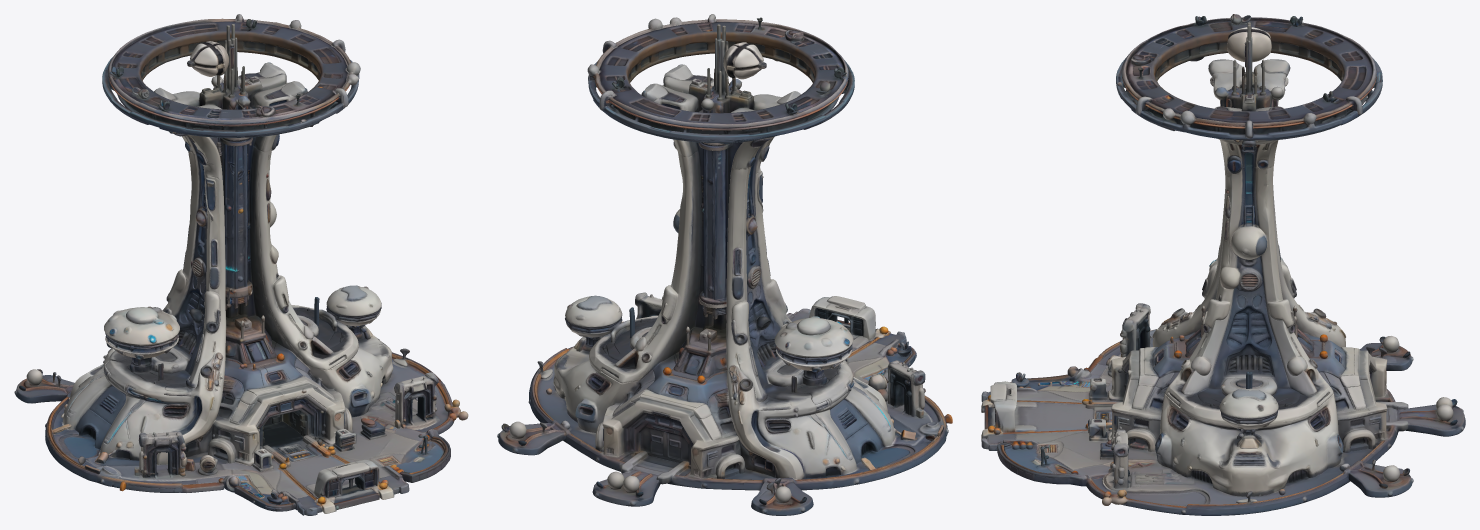
Rendered from elevator.glb.
3 views of the same model, side by side, from view 1: azimuth 30°, elevation 25°; view 2: azimuth 150°, elevation 25°; view 3: azimuth 270°, elevation 25° (orthographic). The views are drawn at different scales.
Parts seen in each view (by area): view 1: tripo_node_168f54d1-2d0f-4fb6-abc6-73142f996987; view 2: tripo_node_168f54d1-2d0f-4fb6-abc6-73142f996987; view 3: tripo_node_168f54d1-2d0f-4fb6-abc6-73142f996987.
Part boxes in pixels (box(x1,y1,x2,y2)): tripo_node_168f54d1-2d0f-4fb6-abc6-73142f996987: box(14, 14, 468, 515); tripo_node_168f54d1-2d0f-4fb6-abc6-73142f996987: box(497, 14, 952, 515); tripo_node_168f54d1-2d0f-4fb6-abc6-73142f996987: box(981, 14, 1465, 515).
Size of the model in its own units: 0.8927 by 0.8956 by 0.9804.
Materials: 1 (1 with a texture image).
